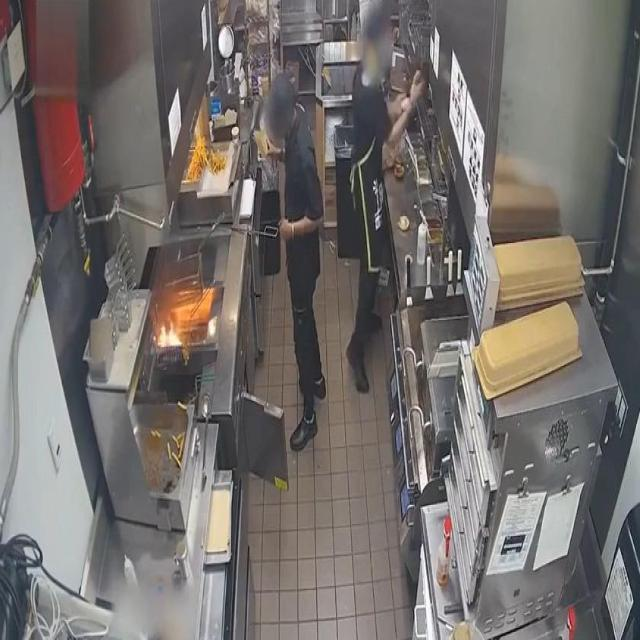smoke: (156, 316, 189, 348)
